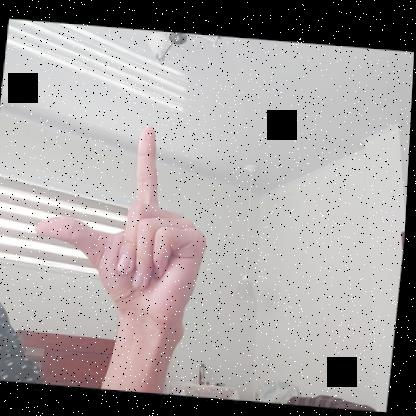L: (27, 116, 221, 328)
